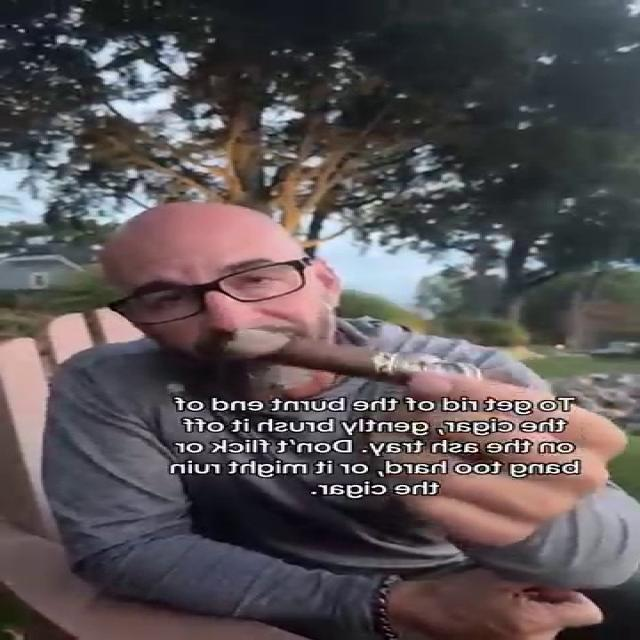Cigarette: (223, 328, 512, 401)
Hand: (361, 372, 633, 546)
